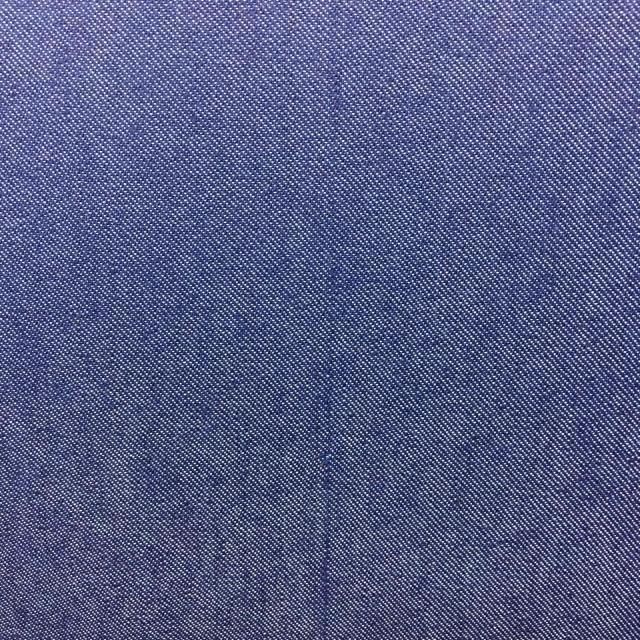Line: (318, 17, 333, 639)
